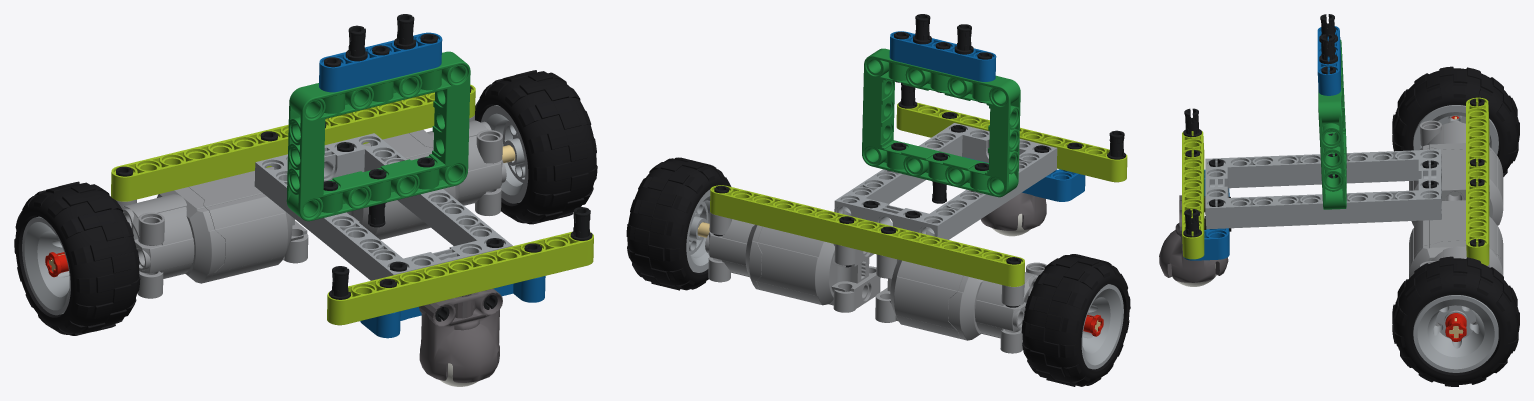
File: lfr.glb
3 views of the same model, side by side, from view 1: azimuth 30°, elevation 25°; view 2: azimuth 150°, elevation 25°; view 3: azimuth 270°, elevation 25° (orthographic). The views are drawn at different scales.
Parts seen in each view (by area): view 1: Block 2, Wheel 1, Motor 1, Wheel 2, Block 1, Beam 1, Beam 3, Castor 1, Motor 2, Beam 2, C Block 1, Pin 17 (+4 smaller); view 2: Block 2, Wheel 1, Motor 2, Beam 1, Motor 1, Wheel 2, Block 1, Beam 3, Beam 2, Castor 1, C Block 1, Pin 17 (+2 smaller); view 3: Block 1, Wheel 2, Wheel 1, Motor 1, Beam 1, Motor 2, Block 2, Beam 3, Castor 1, Beam 2, C Block 1, Bush 2 (+4 smaller).
Boxes of the visible parts, x1=… form: Block 2: x1=286, y1=51, x2=470, y2=221; Wheel 1: x1=14, y1=181, x2=140, y2=335; Motor 1: x1=116, y1=166, x2=308, y2=298; Wheel 2: x1=475, y1=70, x2=597, y2=224; Block 1: x1=254, y1=133, x2=512, y2=280; Beam 1: x1=111, y1=84, x2=475, y2=201; Beam 3: x1=327, y1=232, x2=593, y2=325; Castor 1: x1=419, y1=288, x2=502, y2=386; Motor 2: x1=347, y1=115, x2=506, y2=239; Beam 2: x1=319, y1=32, x2=442, y2=92; C Block 1: x1=360, y1=276, x2=545, y2=338; Pin 17: x1=345, y1=25, x2=367, y2=61; Block 2: x1=862, y1=48, x2=1020, y2=197; Wheel 1: x1=1021, y1=254, x2=1130, y2=386; Motor 2: x1=705, y1=212, x2=880, y2=312; Beam 1: x1=710, y1=185, x2=1024, y2=286; Motor 1: x1=875, y1=254, x2=1046, y2=353; Wheel 2: x1=626, y1=157, x2=731, y2=290; Block 1: x1=834, y1=123, x2=1057, y2=239; Beam 3: x1=896, y1=102, x2=1127, y2=182; Beam 2: x1=889, y1=31, x2=996, y2=81; Castor 1: x1=980, y1=192, x2=1046, y2=236; C Block 1: x1=962, y1=156, x2=1085, y2=201; Pin 17: x1=954, y1=24, x2=973, y2=54; Block 1: x1=1205, y1=149, x2=1441, y2=229; Wheel 2: x1=1392, y1=256, x2=1519, y2=386; Wheel 1: x1=1392, y1=66, x2=1519, y2=176; Motor 1: x1=1409, y1=120, x2=1503, y2=226; Beam 1: x1=1466, y1=97, x2=1489, y2=265; Motor 2: x1=1409, y1=200, x2=1503, y2=326; Block 2: x1=1318, y1=39, x2=1346, y2=209; Beam 3: x1=1182, y1=131, x2=1204, y2=259; Castor 1: x1=1159, y1=195, x2=1228, y2=286; Beam 2: x1=1317, y1=26, x2=1340, y2=95; C Block 1: x1=1184, y1=169, x2=1229, y2=260; Bush 2: x1=1445, y1=313, x2=1466, y2=341.
Size of the model in its own units: 0.173 by 0.0959 by 0.1216.
